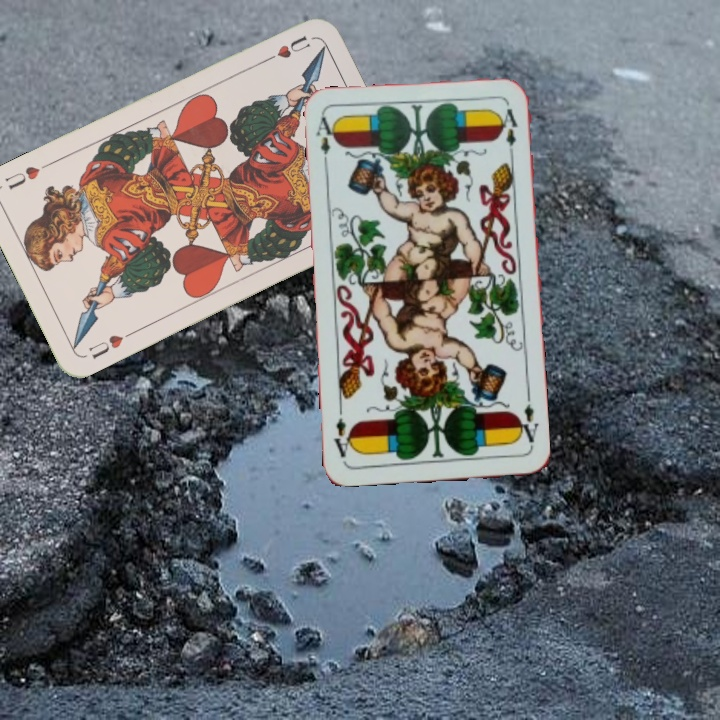EA: (312, 113, 339, 171), (513, 400, 541, 445)
HU: (259, 31, 313, 66), (84, 327, 136, 362)
